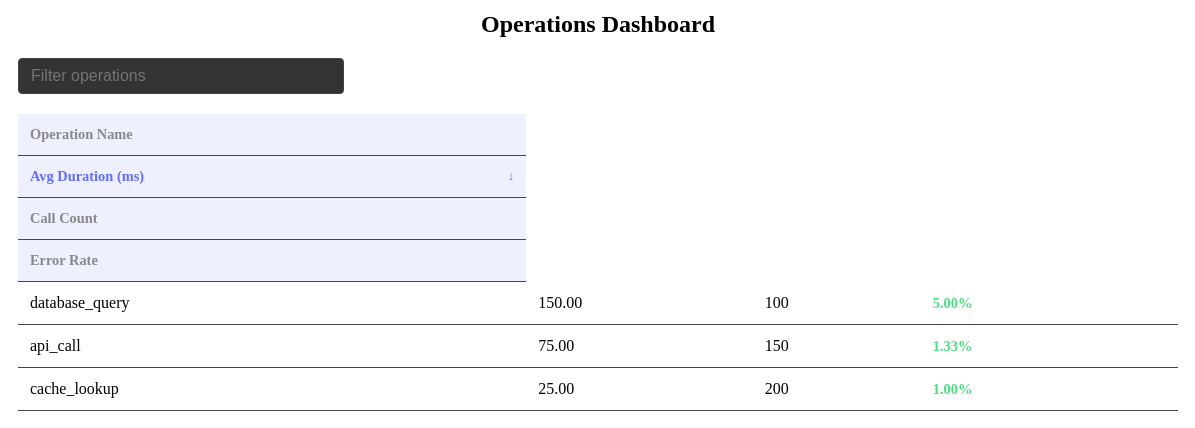
Test: OperationsDashboard › should allow filtering operations by name
The image size is (1195, 428).
Type "database" into the field with placeholder "Filter operations" at (181, 76), box top-left (18, 58), bottom-right (344, 94)
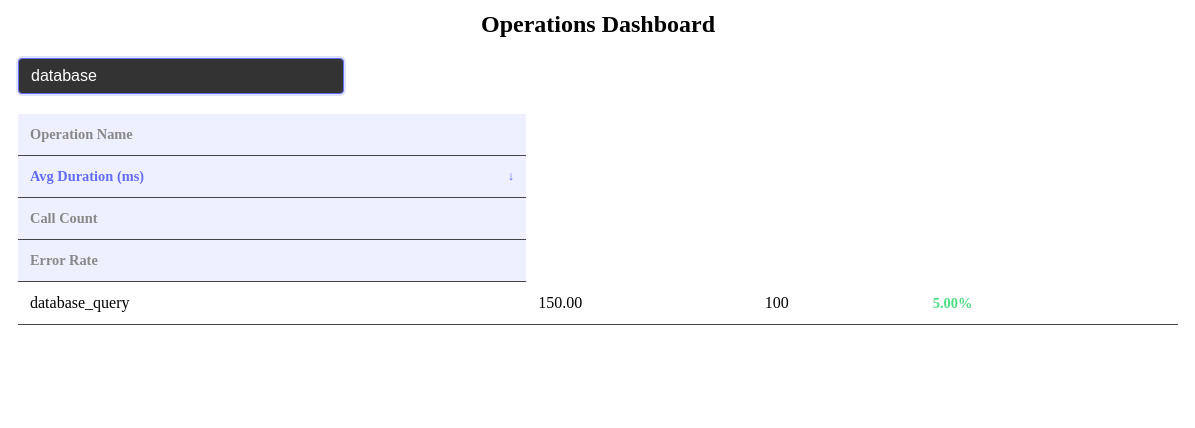
Expected: the text "database_query" is shown, top-left (18, 282), bottom-right (526, 324)
Now the text "api_call" is gone
